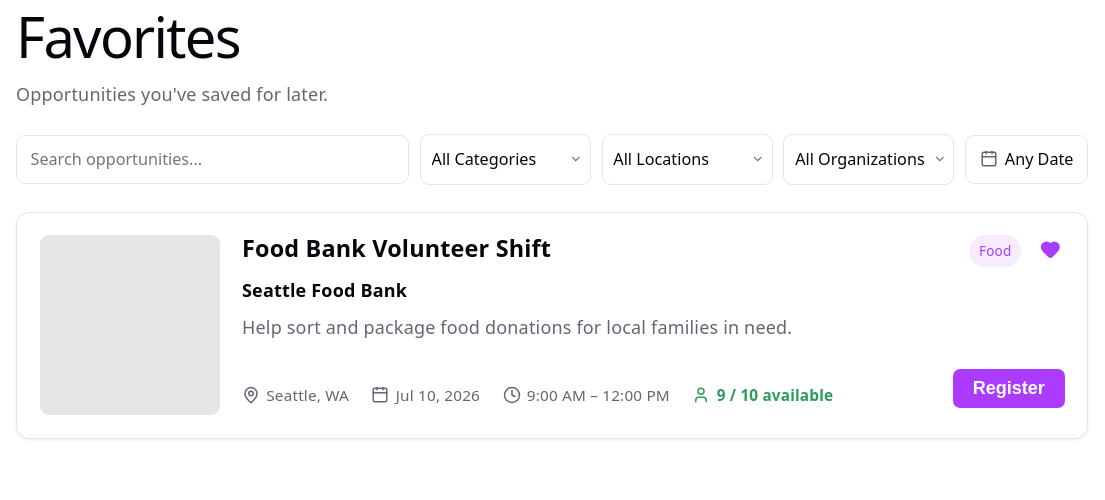
Test: FavoritesPage › registers for a favorited opportunity, keeps it in the list, and shows the Registered state
Check: the heading "Food Bank Volunteer Shift" is shown, box [242, 235, 551, 261]
Click the button "Register": (1009, 389) [953, 369, 1064, 408]
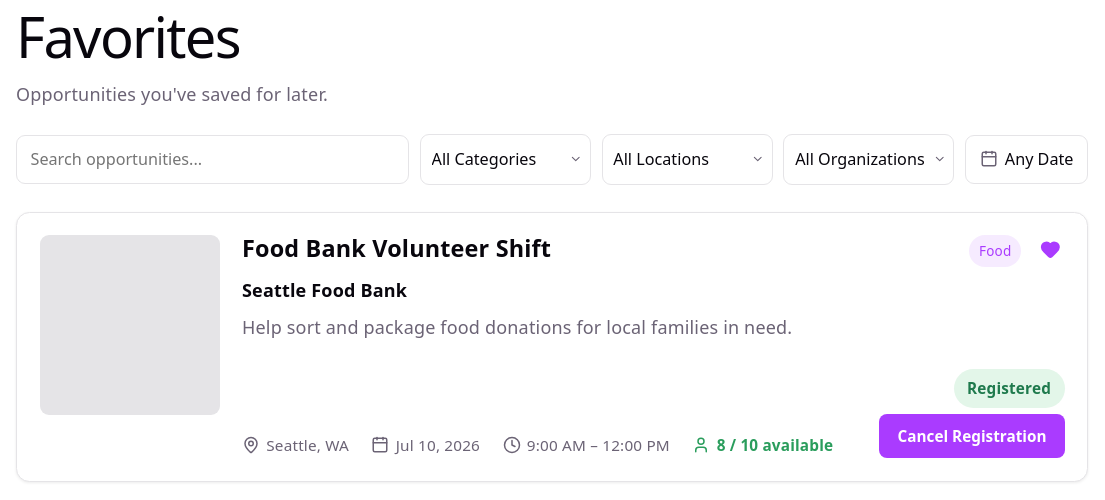
Check: the heading "Food Bank Volunteer Shift" is shown, box [242, 235, 551, 261]
Check: the text "Registered" is shown, box [954, 369, 1064, 408]
